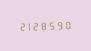eight: (41, 20, 48, 30)
five: (49, 19, 56, 30)
nine: (57, 19, 64, 30)
one: (25, 20, 32, 31)
two: (17, 20, 24, 31), (33, 20, 40, 31)
zero: (65, 19, 72, 30)
